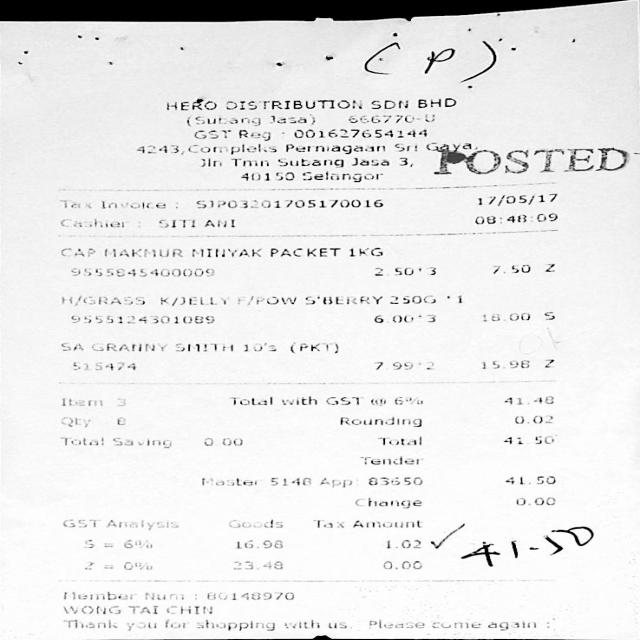text: (435, 148, 627, 173), (196, 198, 382, 207), (69, 314, 215, 325), (223, 99, 361, 109), (293, 128, 425, 138), (478, 192, 555, 205), (286, 143, 384, 153), (203, 592, 295, 602), (473, 212, 556, 223), (61, 590, 134, 602), (188, 143, 275, 153), (195, 618, 272, 629), (336, 416, 418, 426), (298, 170, 379, 180), (83, 538, 149, 550), (89, 342, 160, 353), (224, 518, 289, 530), (347, 114, 433, 123), (56, 217, 126, 228), (102, 519, 178, 529), (78, 559, 147, 570), (58, 603, 120, 615), (353, 496, 420, 507), (177, 341, 231, 354), (160, 602, 214, 615), (60, 617, 114, 630), (302, 295, 379, 304), (103, 247, 179, 256), (371, 313, 433, 324), (108, 438, 176, 448), (67, 362, 132, 372), (503, 434, 556, 446), (269, 247, 338, 256), (191, 247, 258, 256), (373, 360, 433, 370), (366, 618, 426, 628), (274, 158, 340, 167), (183, 116, 257, 124), (97, 200, 162, 209), (229, 559, 282, 570), (62, 296, 143, 303), (379, 557, 421, 570), (201, 477, 260, 486), (165, 101, 218, 111), (77, 268, 143, 276), (159, 296, 223, 304), (479, 358, 530, 368), (505, 474, 554, 484), (374, 266, 434, 274), (318, 476, 353, 489), (483, 621, 533, 630), (381, 538, 418, 550), (286, 343, 335, 352), (152, 268, 207, 276), (58, 397, 102, 407), (237, 540, 281, 550), (479, 312, 527, 321), (56, 246, 95, 257), (432, 620, 479, 629), (390, 395, 428, 406), (240, 172, 292, 180), (368, 476, 420, 484), (386, 295, 432, 304), (60, 416, 94, 428), (124, 618, 158, 630), (128, 602, 159, 615), (414, 97, 454, 107), (156, 219, 196, 229), (268, 476, 308, 486), (282, 618, 318, 629), (55, 198, 93, 208), (202, 437, 244, 446), (504, 396, 551, 404), (364, 458, 417, 465), (191, 128, 228, 138), (512, 495, 552, 504), (255, 295, 294, 304), (270, 114, 313, 122), (228, 157, 266, 166), (382, 436, 420, 445), (144, 592, 182, 601), (236, 129, 267, 140), (134, 144, 176, 152), (60, 518, 97, 527), (370, 99, 406, 108), (229, 396, 269, 404), (489, 264, 527, 272), (243, 342, 273, 352), (317, 519, 359, 526), (322, 396, 357, 404), (422, 143, 468, 149), (511, 416, 550, 423), (61, 437, 100, 444), (350, 247, 380, 256), (348, 158, 386, 165), (282, 396, 315, 404), (202, 218, 231, 226), (162, 619, 185, 628), (392, 142, 414, 151), (198, 157, 218, 166), (389, 520, 417, 526), (398, 156, 411, 167), (112, 417, 126, 426), (328, 620, 346, 627), (114, 397, 124, 408), (543, 310, 553, 319), (61, 343, 79, 348), (544, 262, 552, 271), (544, 358, 552, 367)
